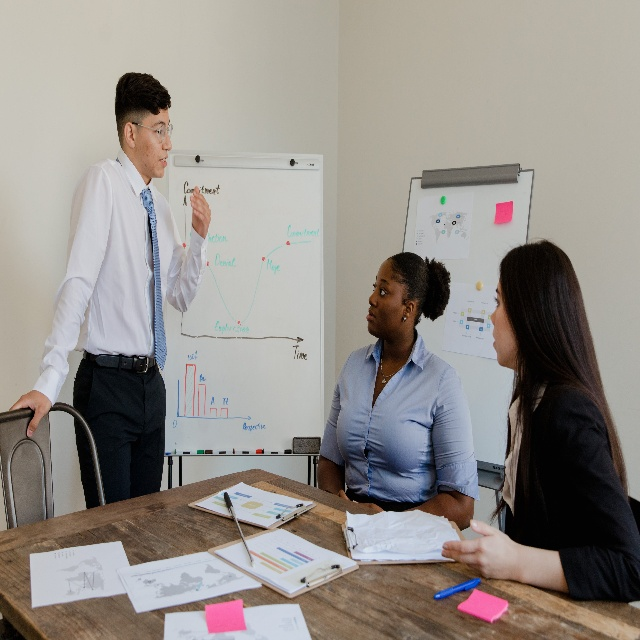Gafas: (158, 122, 172, 143)
Sin_guantes: (441, 518, 515, 579), (10, 388, 50, 433), (190, 185, 210, 238)
